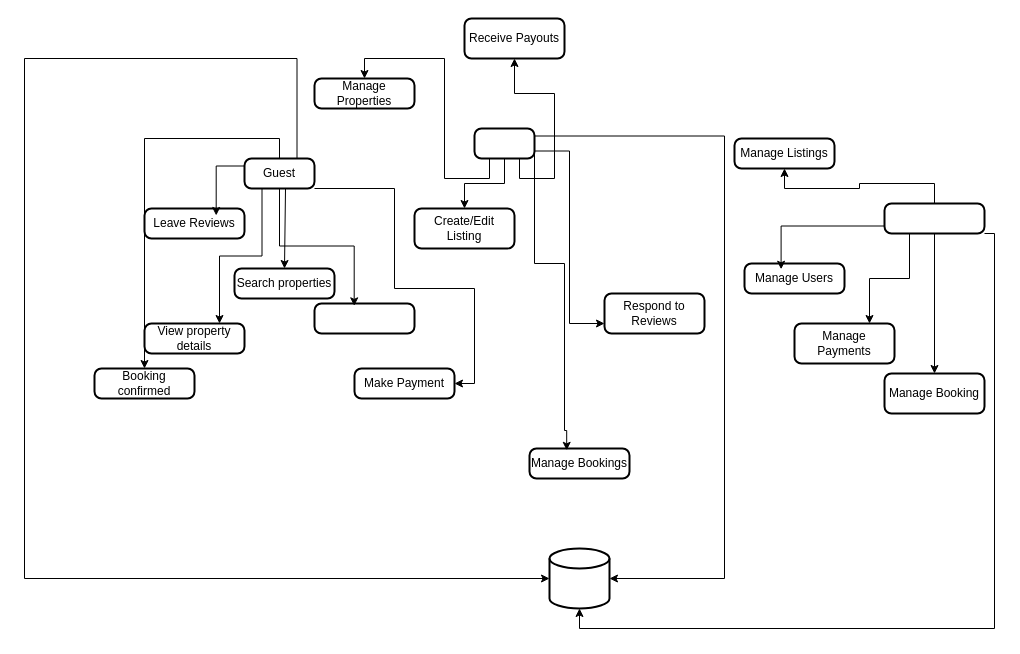
Some shapes in this 1020 by 654 pixel diagram are drawn without their labels. The shapes that lost their labels are listed below. From the top down, each one's centre as x and y in pixels, then its label:
At [504,143]: "Host".
At [934,218]: "Admin".
At [364,318]: "Make Booking".
At [579,578]: "Database".
